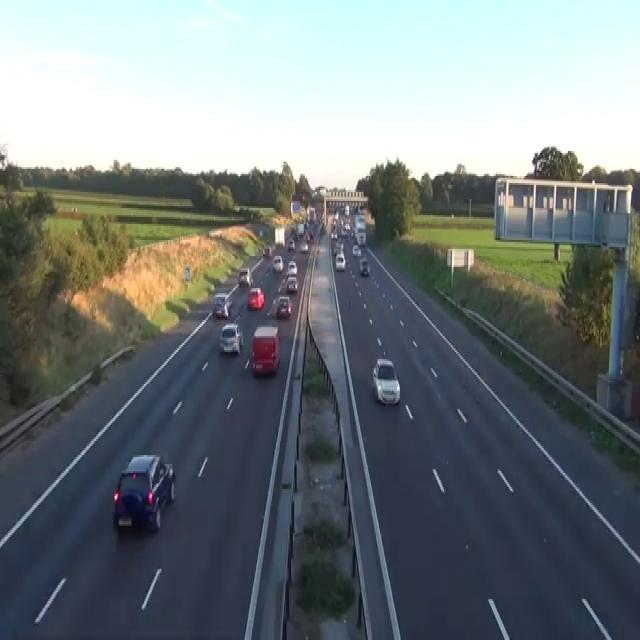Car: (113, 454, 175, 534), (251, 325, 280, 375), (372, 358, 400, 406), (219, 322, 243, 356), (212, 292, 232, 318), (247, 286, 264, 310), (275, 295, 292, 318), (237, 267, 253, 286), (359, 256, 370, 276), (272, 254, 283, 272), (286, 276, 298, 292), (335, 251, 345, 270), (354, 213, 365, 230), (286, 260, 297, 276), (356, 230, 366, 246), (278, 276, 286, 294), (262, 245, 271, 258), (352, 244, 361, 256), (334, 242, 343, 254), (287, 238, 295, 251), (306, 229, 313, 242), (300, 242, 308, 252), (331, 231, 337, 240), (350, 228, 354, 236)
